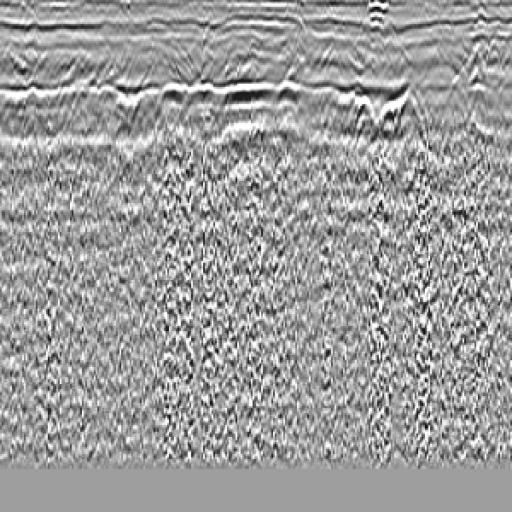metalic: (330, 65, 442, 303)
